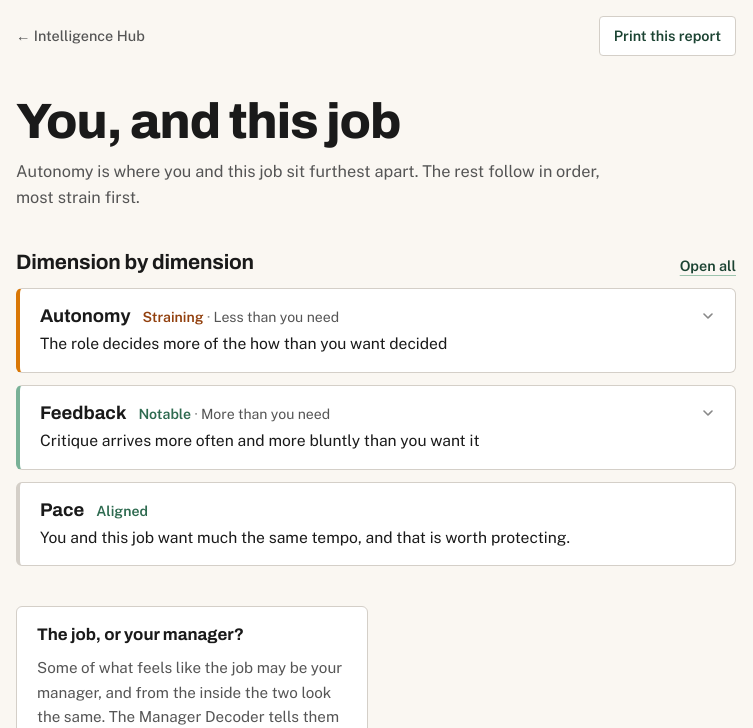
Test: SituationReportPage › complete › expands and collapses a card's guidance with an accessible disclosure
This screenshot has width=753, height=728.
Click the button named "Show guidance for Autonomy" in the row of "Less than you need". click: (378, 331)
box: [20,289,735,372]
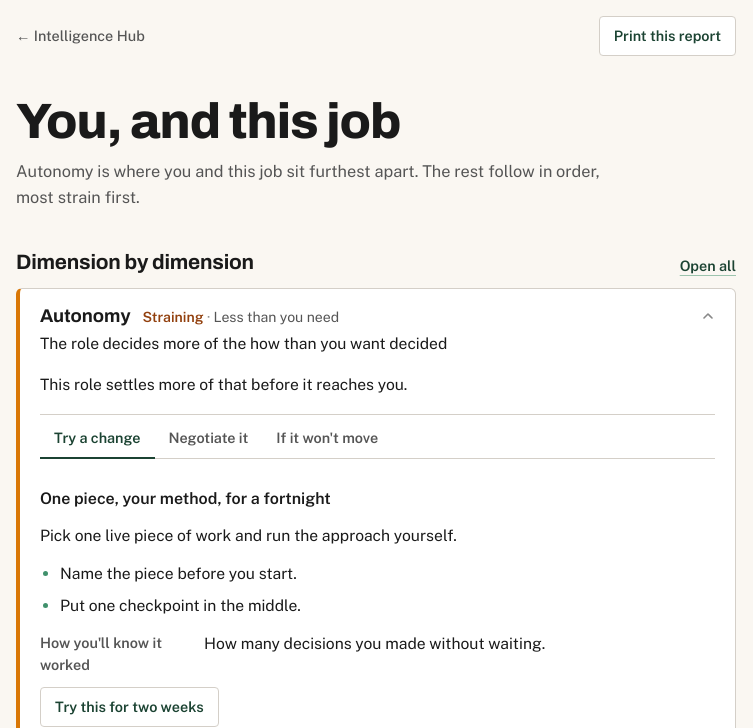
Result: the button named "Show guidance for Autonomy" is expanded
Result: the tab "Negotiate it" is shown at [154,419,262,459]
Click the button named "Show guidance for Autonomy". click: (378, 331)
box: [20,289,735,372]
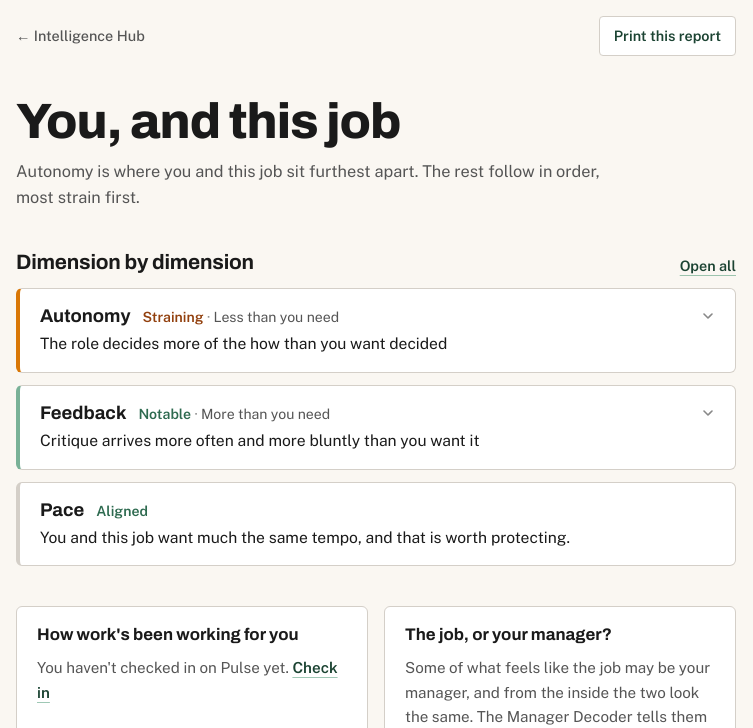
Result: the button named "Show guidance for Autonomy" in the row of "Less than you need" is collapsed at [20,289,735,372]
